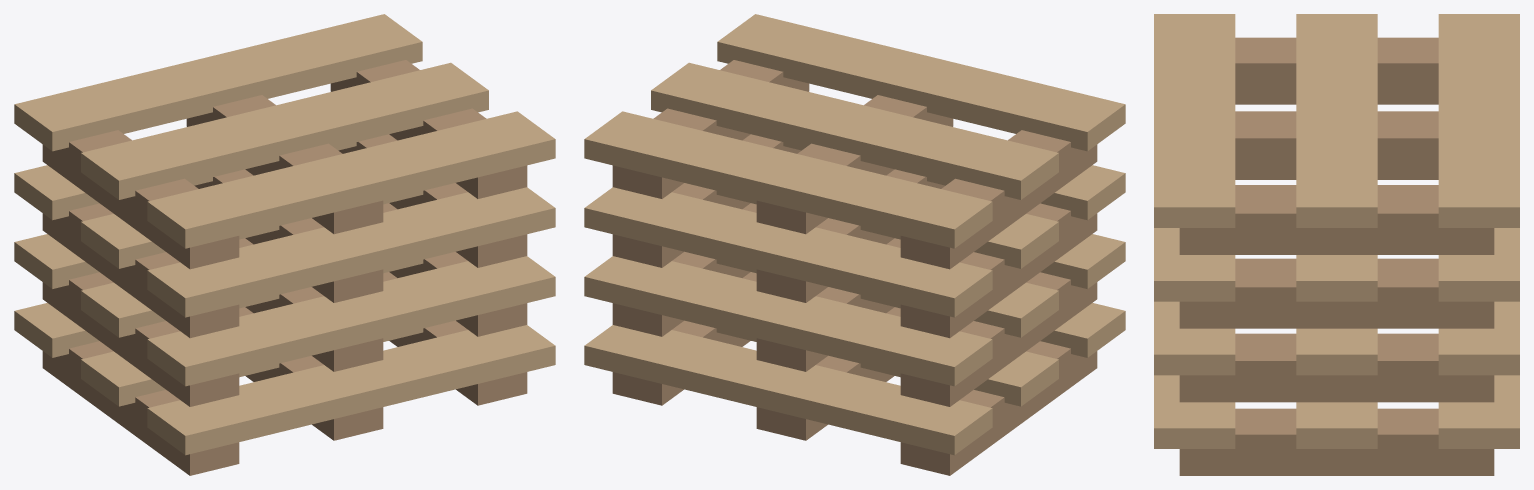
The model's file is pallet_stack_02.glb.
The picture shows the model from 3 angles, left to right: view 1: azimuth 30°, elevation 25°; view 2: azimuth 150°, elevation 25°; view 3: azimuth 270°, elevation 25°; orthographic projection. The views are drawn at different scales.
Parts seen in each view (by area): view 1: slat3_2, slat3_0, slat3_1, slat0_2, slat1_2, slat2_2, block3_-0.35, block1_-0.35, block0_-0.35, block2_-0.35, block3_0.35, block3_0 (+12 smaller); view 2: slat3_0, slat3_2, slat3_1, slat0_0, slat1_0, slat2_0, block3_-0.35, block1_-0.35, block0_-0.35, block2_-0.35, block3_0.35, block3_0 (+12 smaller); view 3: slat3_0, slat3_1, slat3_2, block1_0.35, block2_0.35, block0_0.35, block3_0.35, block3_-0.35, block3_0, slat1_0, slat1_2, slat0_0 (+6 smaller).
Boxes of the visible parts, bbox=[...] form: slat3_2: bbox=[147, 111, 555, 248]; slat3_0: bbox=[14, 14, 422, 151]; slat3_1: bbox=[81, 62, 488, 199]; slat0_2: bbox=[147, 325, 555, 455]; slat1_2: bbox=[147, 256, 555, 386]; slat2_2: bbox=[147, 187, 555, 317]; block3_-0.35: bbox=[42, 130, 239, 269]; block1_-0.35: bbox=[42, 272, 239, 406]; block0_-0.35: bbox=[42, 341, 239, 475]; block2_-0.35: bbox=[42, 203, 239, 338]; block3_0.35: bbox=[330, 60, 527, 198]; block3_0: bbox=[186, 95, 383, 234]; slat3_0: bbox=[584, 111, 992, 248]; slat3_2: bbox=[717, 14, 1125, 151]; slat3_1: bbox=[651, 62, 1058, 199]; slat0_0: bbox=[584, 325, 992, 455]; slat1_0: bbox=[584, 256, 992, 386]; slat2_0: bbox=[584, 187, 992, 317]; block3_-0.35: bbox=[900, 130, 1097, 269]; block1_-0.35: bbox=[900, 272, 1097, 406]; block0_-0.35: bbox=[900, 341, 1097, 475]; block2_-0.35: bbox=[900, 203, 1097, 338]; block3_0.35: bbox=[612, 60, 809, 198]; block3_0: bbox=[756, 95, 953, 234]; slat3_0: bbox=[1438, 14, 1519, 227]; slat3_1: bbox=[1296, 14, 1377, 227]; slat3_2: bbox=[1154, 14, 1235, 227]; block1_0.35: bbox=[1179, 335, 1494, 402]; block2_0.35: bbox=[1179, 261, 1494, 328]; block0_0.35: bbox=[1179, 408, 1494, 475]; block3_0.35: bbox=[1179, 187, 1494, 254]; block3_-0.35: bbox=[1235, 37, 1438, 104]; block3_0: bbox=[1235, 112, 1438, 179]; slat1_0: bbox=[1438, 301, 1519, 375]; slat1_2: bbox=[1154, 301, 1235, 375]; slat0_0: bbox=[1438, 375, 1519, 448].
Bounding box in the file's own units: 0.9 × 0.6025 × 0.72.
